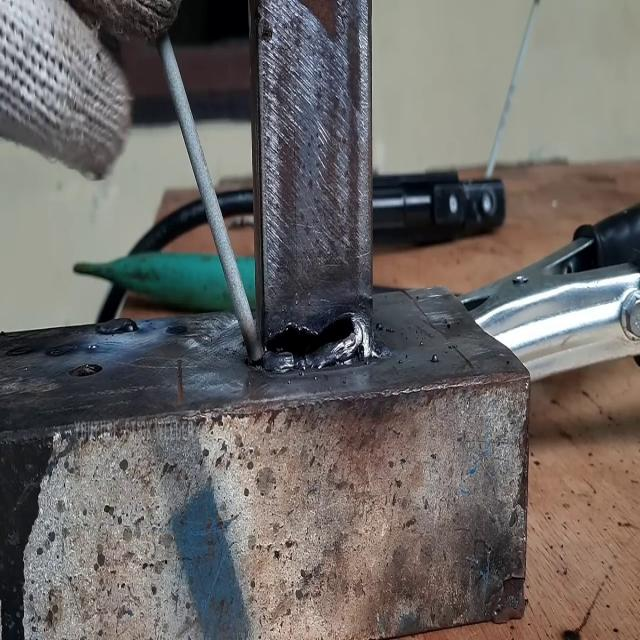Dry Waste: (260, 309, 378, 375)
